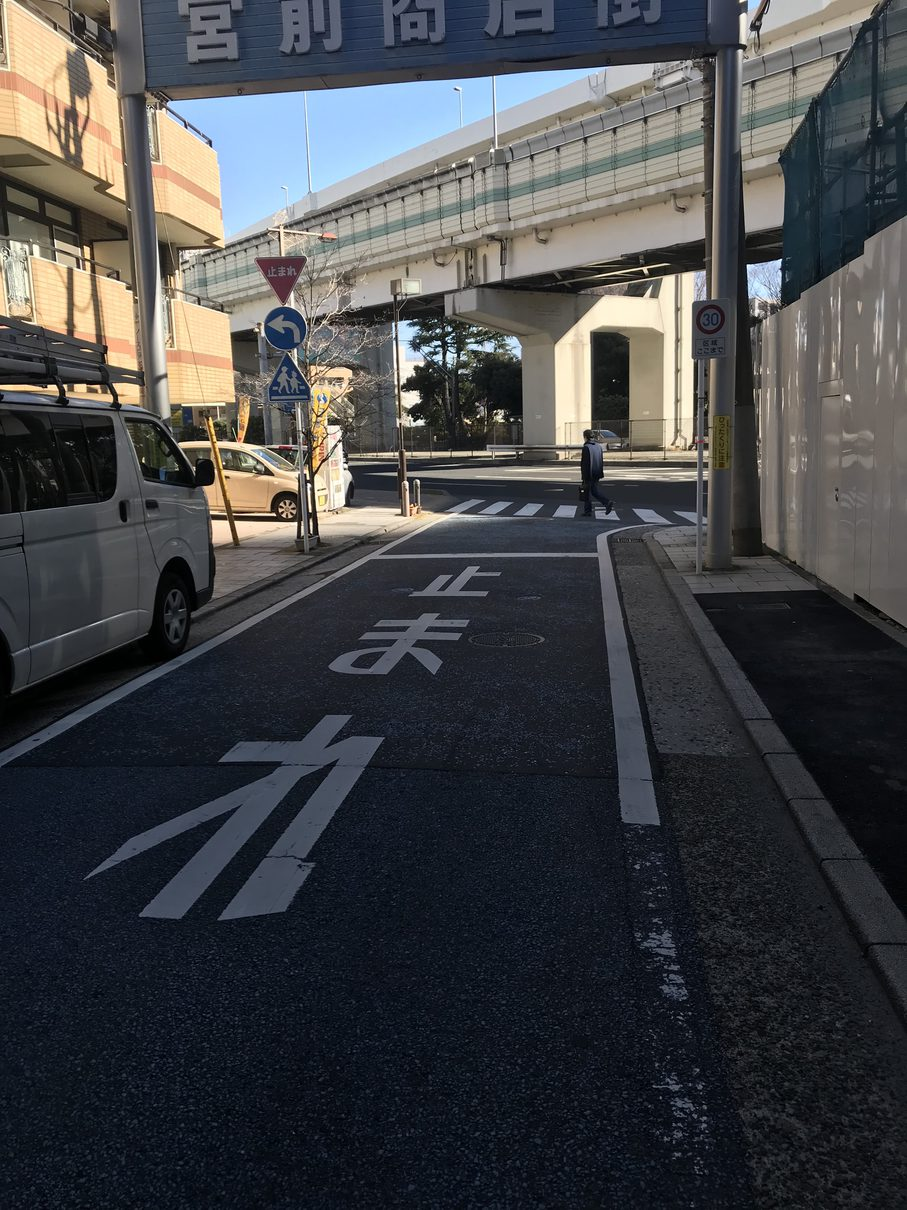stop_sign: (253, 253, 308, 306)
